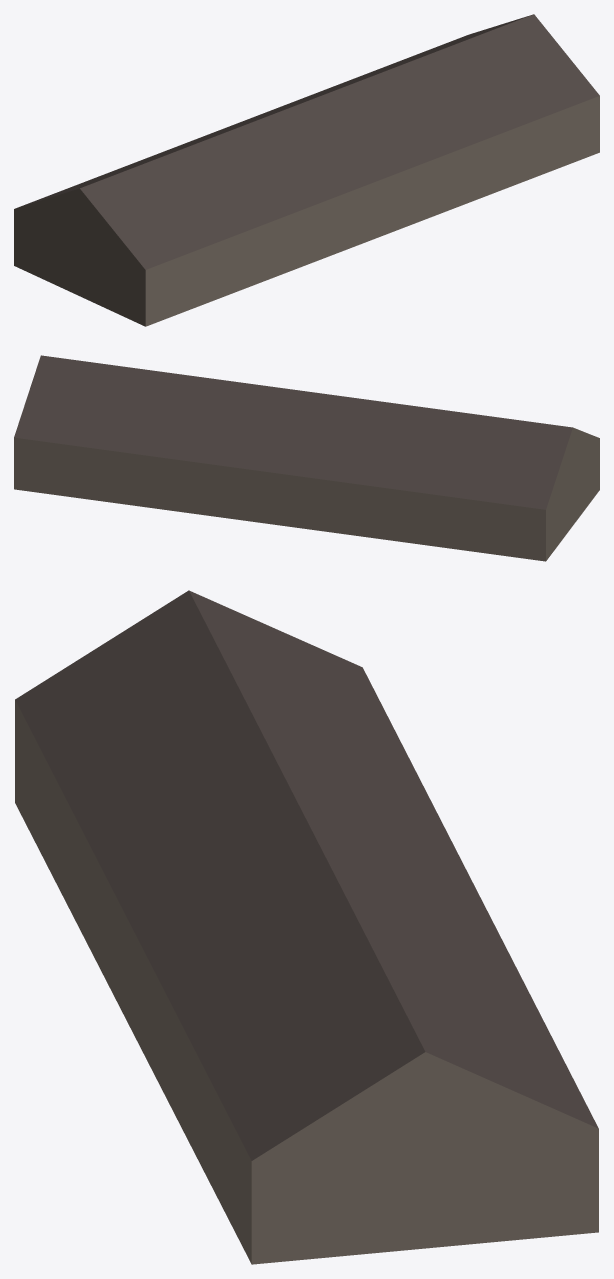
3 views of the same model, one above another, from view 1: azimuth 30°, elevation 25°; view 2: azimuth 150°, elevation 25°; view 3: azimuth 270°, elevation 25° (orthographic). The views are drawn at different scales.
Parts seen in each view (by area): view 1: HP-w408450682; view 2: HP-w408450682; view 3: HP-w408450682.
Part boxes in pixels (left/top/right/bottom): HP-w408450682: left=14, top=14, right=599, bottom=326; HP-w408450682: left=14, top=355, right=599, bottom=561; HP-w408450682: left=15, top=590, right=598, bottom=1264.
Size of the model in its own units: 30.71 by 5.7 by 15.34.
